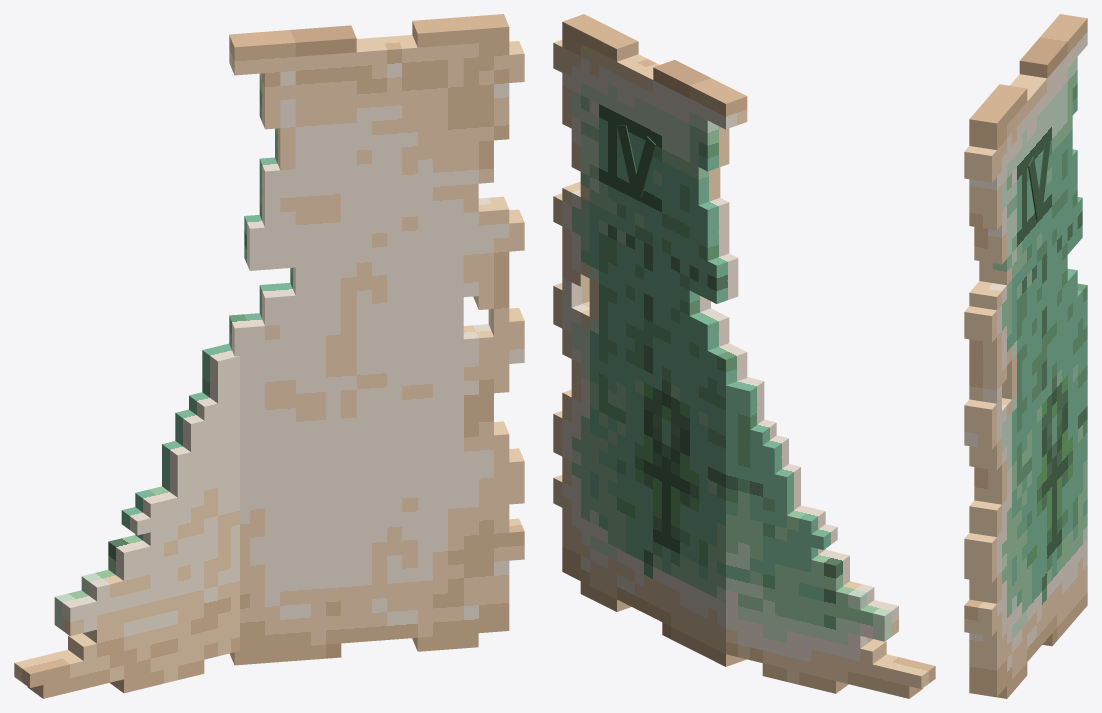
File: lost_page_02D_IV.gltf
3 renders of one model, left to right at view 1: azimuth 30°, elevation 25°; view 2: azimuth 150°, elevation 25°; view 3: azimuth 270°, elevation 25°, orthographic. The views are drawn at different scales.
Visible parts, largest first — view 1: MapRight$$(2)-Local, MapCenter$$(2)-Local; view 2: MapRight$$(2)-Local, MapCenter$$(2)-Local, V01-Local, V02-Local; view 3: MapRight$$(2)-Local, V01-Local, V02-Local.
Part boxes in pixels (x1,y1,x2,y2): MapRight$$(2)-Local: [229, 14, 524, 665]; MapCenter$$(2)-Local: [14, 343, 239, 698]; MapRight$$(2)-Local: [553, 14, 747, 666]; MapCenter$$(2)-Local: [726, 377, 935, 698]; V01-Local: [617, 125, 639, 193]; V02-Local: [635, 136, 655, 197]; MapRight$$(2)-Local: [964, 14, 1087, 698]; V01-Local: [1028, 157, 1042, 220]; V02-Local: [1038, 142, 1050, 215].
Bounding box in the file's own units: 33.85 × 44 × 8.38.
4 materials, 4 textured.
